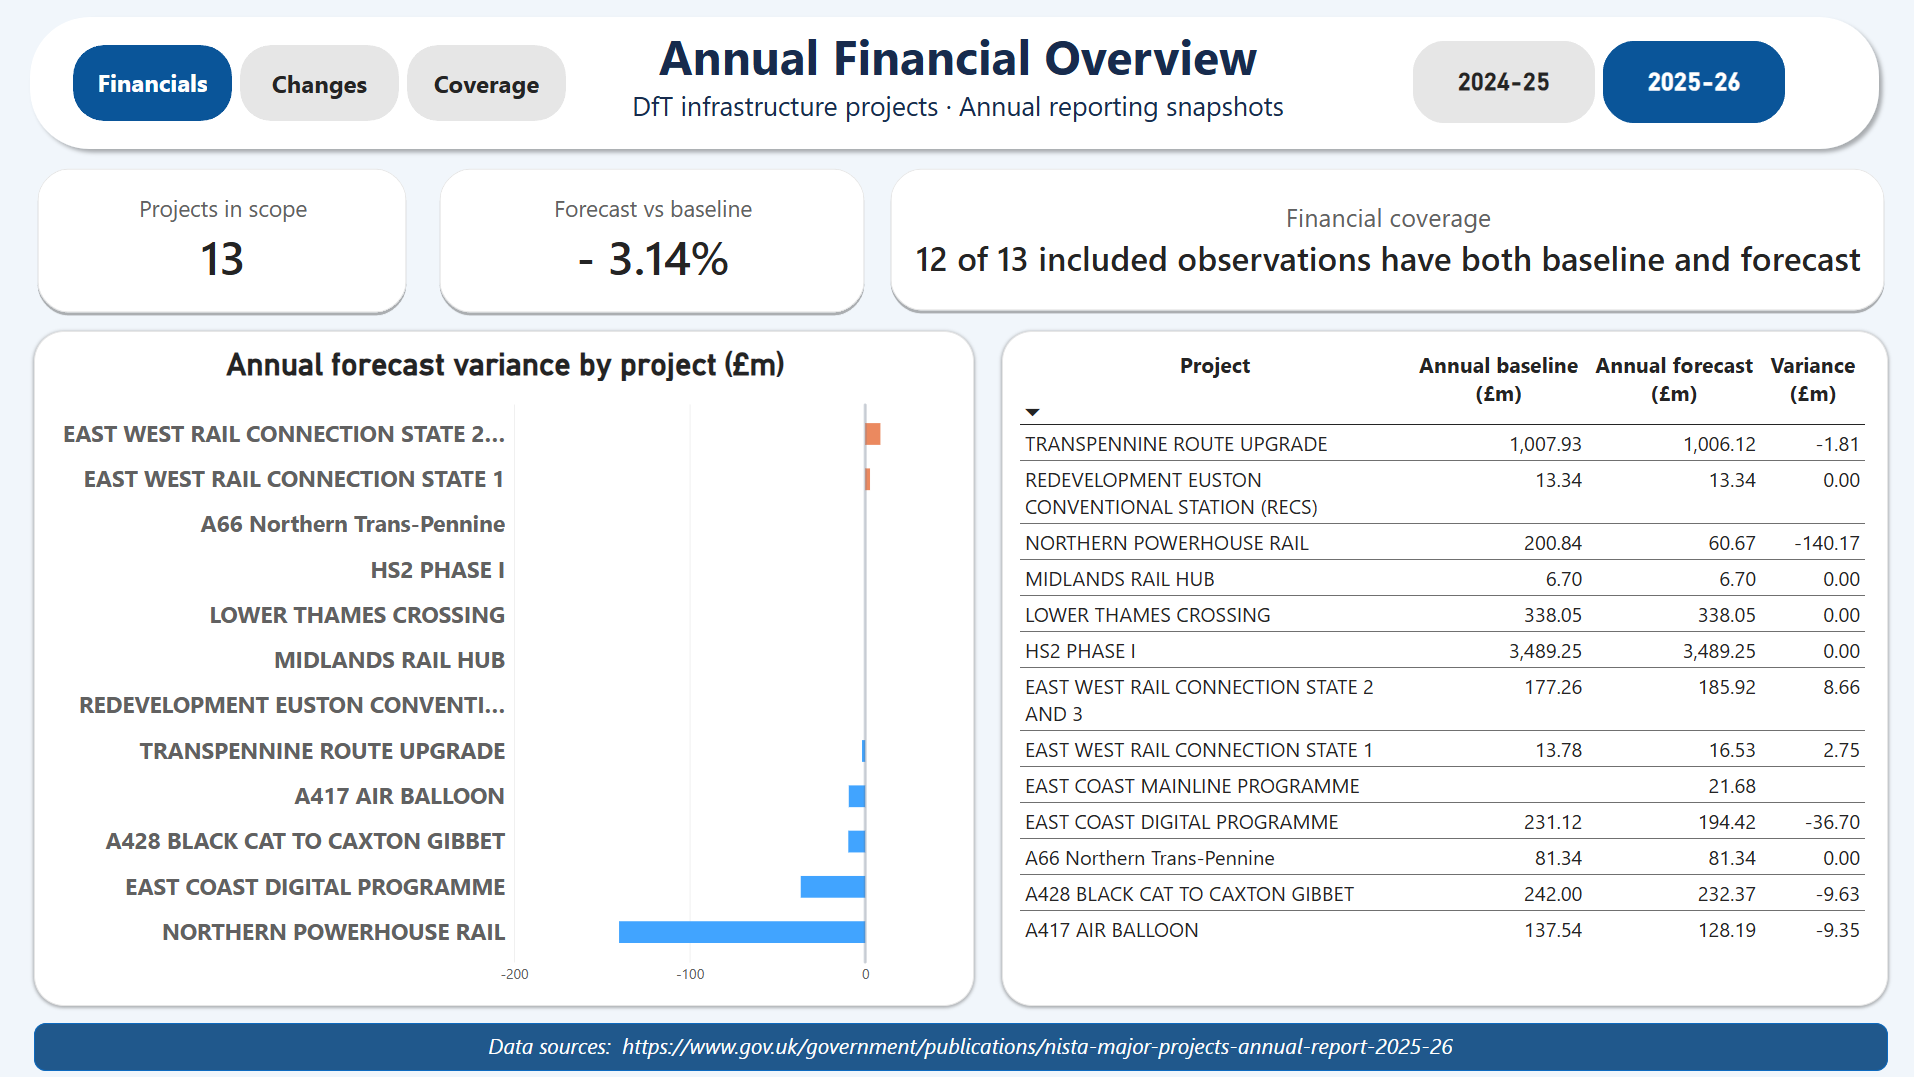

What the dashboard file says about the page in this screenshot:
{"tool":"powerbi","page":{"name":"Financials","canvas":[1920,1080],"ordinal":0},"visuals":[{"type":"shape","box":[36,1025,1854,48],"z":0},{"type":"shape","box":[23.3,10,1866.7,150],"z":1000},{"type":"advancedSlicerVisual","title":"Reporting year","fields":{"Values":["DimRelease.release_year"]},"box":[1415,43.3,371.7,81.7],"z":2000},{"type":"cardVisual","fields":{"Data":["_Measures.Included Observations"]},"box":[36,167,376,151],"z":3000},{"type":"cardVisual","fields":{"Data":["_Measures.Aggregate Annual Forecast Variance %"]},"box":[438,167,432,151],"z":4000},{"type":"cardVisual","fields":{"Data":["_Measures.Variance Coverage"]},"box":[889,167,1001,149],"z":5000},{"type":"tableEx","fields":{"Values":["AnnualVariance.project_name_raw","AnnualVariance.baseline_gbp_m","AnnualVariance.forecast_gbp_m","AnnualVariance.variance_gbp_m"]},"box":[1004,333,886,675],"z":6000},{"type":"textbox","box":[551.7,25,816.7,141.7],"z":8000},{"type":"clusteredBarChart","title":"Annual forecast variance by project (£m)","fields":{"Category":["AnnualVariance.project_name_raw"],"Y":["Sum(AnnualVariance.variance_gbp_m)"]},"box":[36,333,940,675],"z":9000},{"type":"pageNavigator","box":[75,46.7,495,76.7],"z":10000},{"type":"textbox","box":[482,1033,987,32],"z":10001}]}

Visuals, with their boxes in screenshot pixels (x1, y1, x2, y2), scaled from the page's 1920x1080 canvas onto the 1914x1077 screenshot:
shape: crop(36, 1022, 1884, 1070)
shape: crop(23, 10, 1884, 160)
"Reporting year" advancedSlicerVisual: crop(1411, 43, 1781, 125)
cardVisual - _Measures.Included Observations: crop(36, 167, 411, 317)
cardVisual - _Measures.Aggregate Annual Forecast Variance %: crop(437, 167, 867, 317)
cardVisual - _Measures.Variance Coverage: crop(886, 167, 1884, 315)
tableEx - AnnualVariance.project_name_raw x AnnualVariance.baseline_gbp_m: crop(1001, 332, 1884, 1005)
textbox: crop(550, 25, 1364, 166)
"Annual forecast variance by project (£m)" clusteredBarChart: crop(36, 332, 973, 1005)
pageNavigator: crop(75, 47, 568, 123)
textbox: crop(480, 1030, 1464, 1062)
